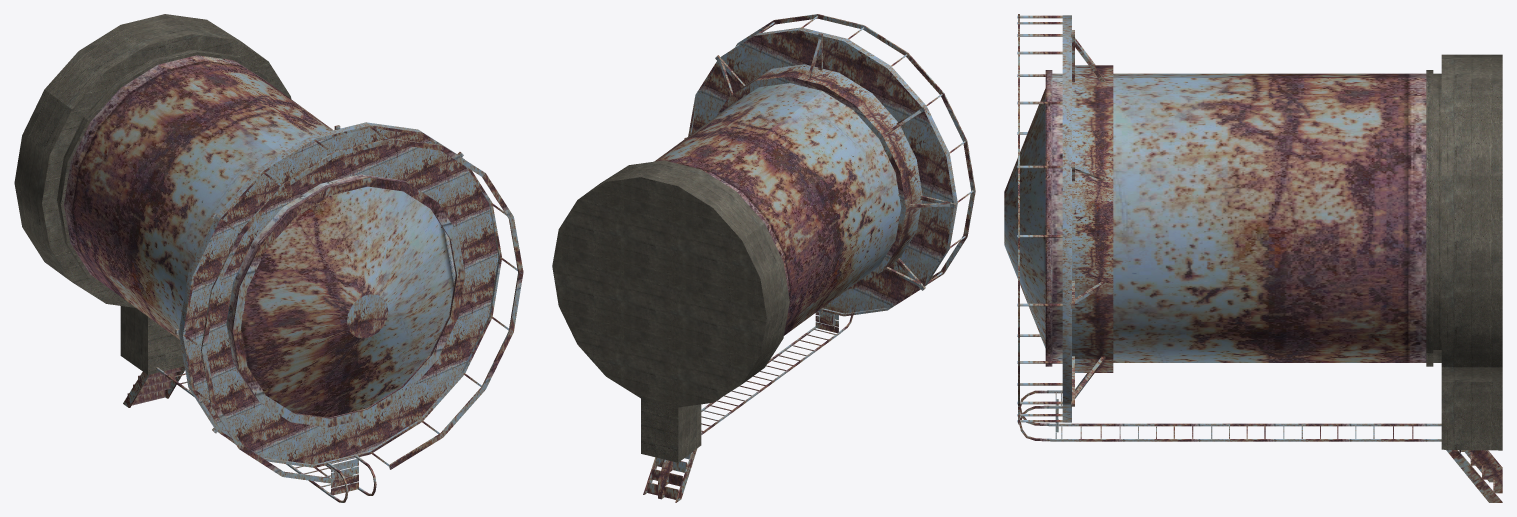
The model's file is oeltank_6.fbx.
3 renders of one model, left to right at view 1: azimuth 30°, elevation 25°; view 2: azimuth 150°, elevation 25°; view 3: azimuth 270°, elevation 25°, orthographic. The views are drawn at different scales.
Parts seen in each view (by area): view 1: MDL-Obje18, MDL-Tube11; view 2: MDL-Obje18, MDL-Tube11; view 3: MDL-Obje18, MDL-Tube11.
Boxes of the visible parts, bbox=[...] form: MDL-Obje18: bbox=[14, 14, 465, 427]; MDL-Tube11: bbox=[123, 122, 523, 502]; MDL-Obje18: bbox=[552, 83, 901, 462]; MDL-Tube11: bbox=[643, 14, 975, 502]; MDL-Obje18: bbox=[1004, 54, 1502, 450]; MDL-Tube11: bbox=[1017, 14, 1502, 502].
Bounding box in the file's own units: 7.95 × 9.71 × 9.55.
